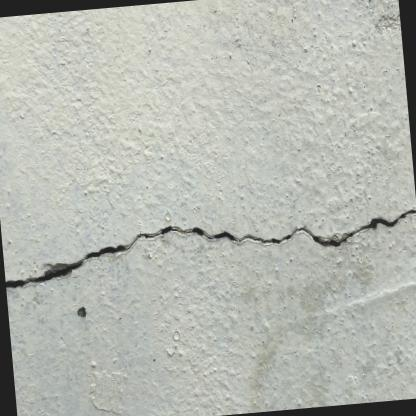crack: (6, 209, 416, 288)
